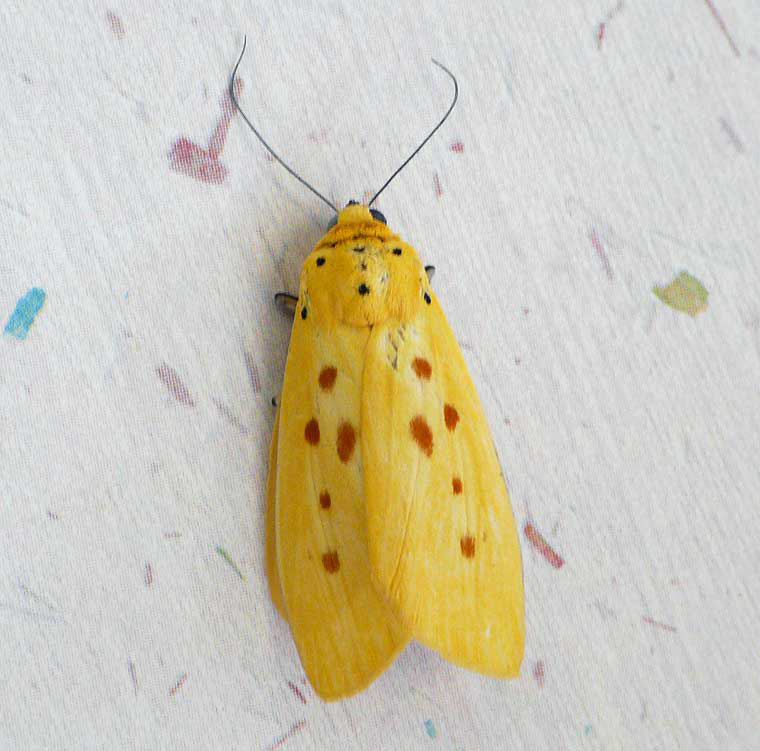Agape chloropyga: (218, 28, 531, 703)
moth: (220, 30, 533, 705)
